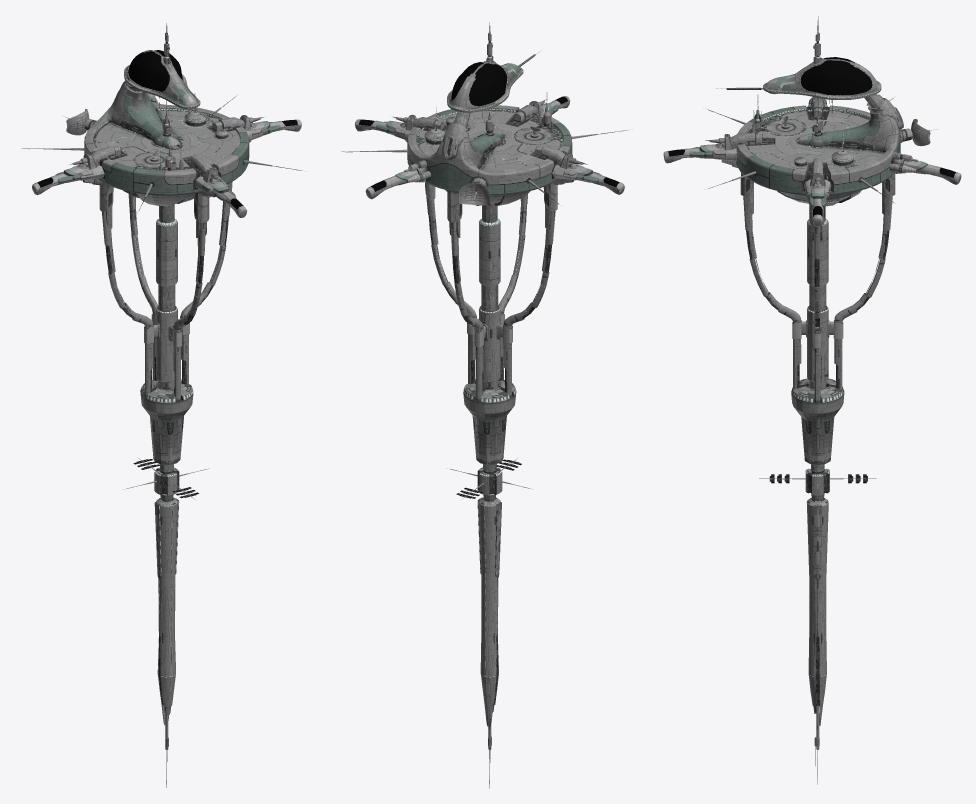
The model's file is 20063_lite.glb.
The picture shows the model from 3 angles, left to right: view 1: azimuth 30°, elevation 25°; view 2: azimuth 150°, elevation 25°; view 3: azimuth 270°, elevation 25°; orthographic projection.
Visible parts, largest first — view 1: ship; view 2: ship; view 3: ship.
Part boxes in pixels (x1,y1,x2,y2): ship: [21, 23, 301, 787]; ship: [342, 22, 627, 788]; ship: [663, 16, 961, 784].
Bounding box in the file's own units: 24.49 × 67.96 × 23.65.
1 material, 1 textured.
